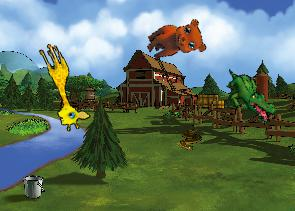bear: (141, 11, 211, 74)
crocodile: (215, 67, 284, 124)
giraffe: (27, 40, 93, 134)
